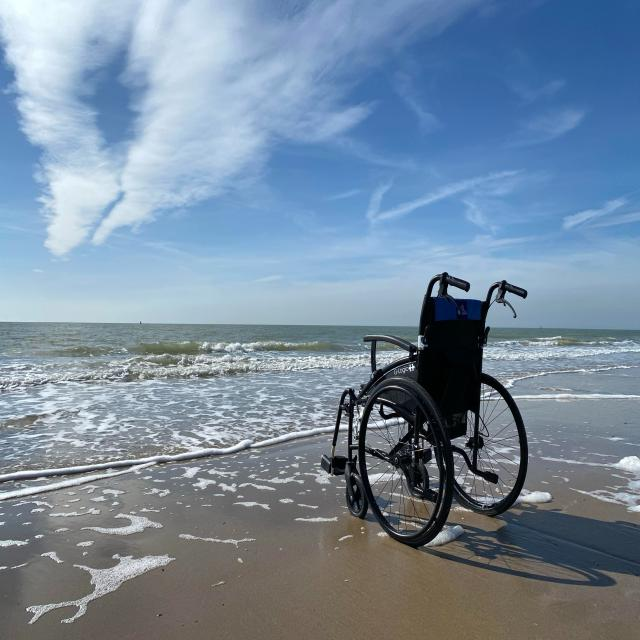wheelchairs: (326, 273, 532, 553)
